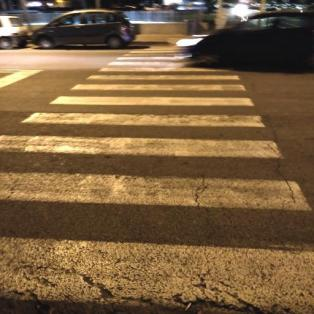Paso de Cebra: (0, 131, 314, 222), (48, 81, 260, 110)
